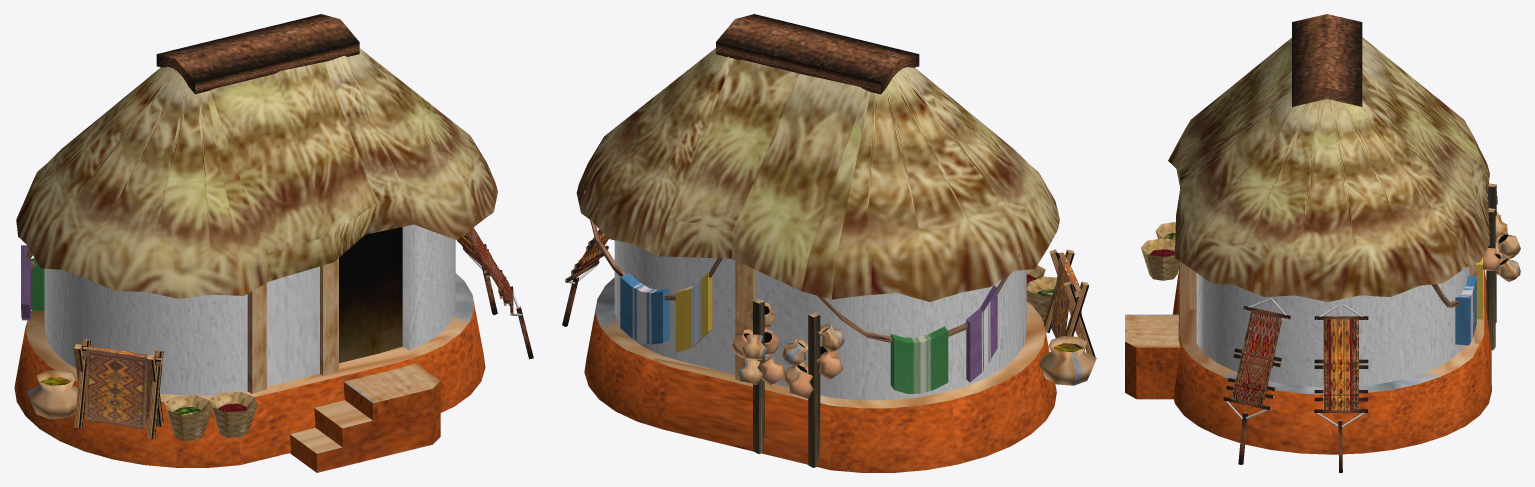
Rendered from house_1.dae.
3 views of the same model, side by side, from view 1: azimuth 30°, elevation 25°; view 2: azimuth 150°, elevation 25°; view 3: azimuth 270°, elevation 25° (orthographic). The views are drawn at different scales.
Parts seen in each view (by area): view 1: house_1; view 2: house_1; view 3: house_1.
Part boxes in pixels (box(x1,y1,x2,y2)): house_1: box(14, 14, 533, 472); house_1: box(562, 14, 1096, 472); house_1: box(1125, 14, 1520, 472).
Bounding box in the file's own units: 14.34 × 10.77 × 9.39.
